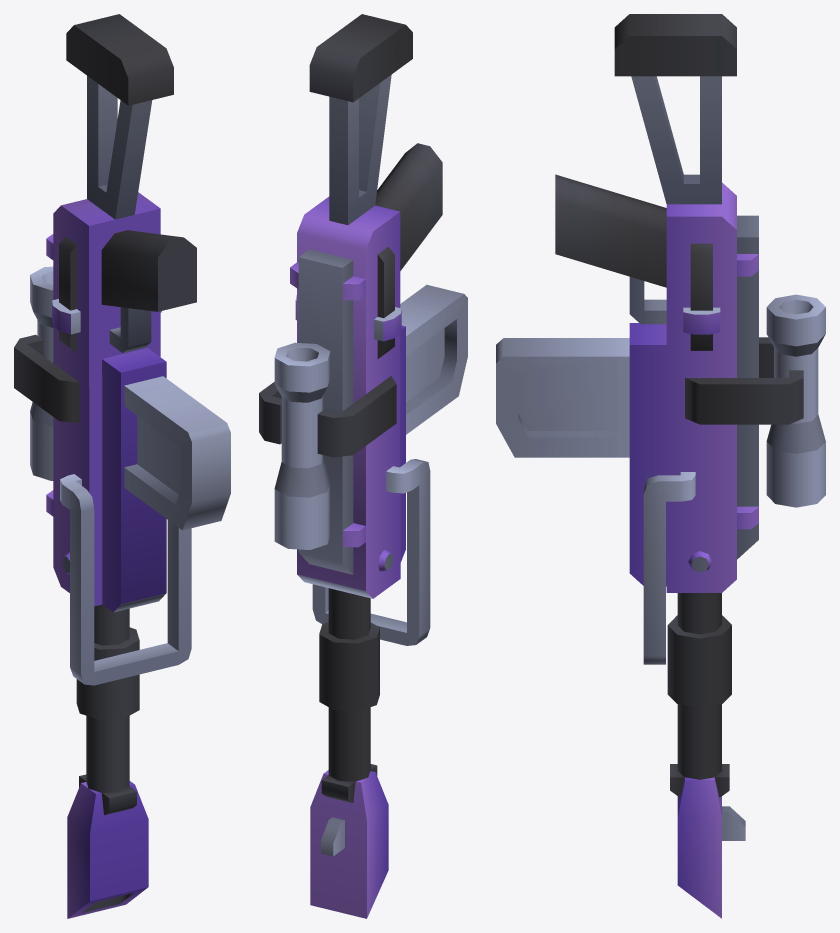
The model's file is kb-blaster-f-lod1.glb.
3 renders of one model, left to right at view 1: azimuth 30°, elevation 25°; view 2: azimuth 150°, elevation 25°; view 3: azimuth 270°, elevation 25°, orthographic. The views are drawn at different scales.
Parts seen in each view (by area): view 1: blaster-f, WeaponMesh_kb-blaster-f_magazine, WeaponMesh_kb-blaster-f_scope; view 2: blaster-f, WeaponMesh_kb-blaster-f_scope, WeaponMesh_kb-blaster-f_magazine; view 3: blaster-f, WeaponMesh_kb-blaster-f_scope, WeaponMesh_kb-blaster-f_magazine.
Part boxes in pixels (x1,y1,x2,y2): blaster-f: [46, 14, 196, 918]; WeaponMesh_kb-blaster-f_magazine: [124, 376, 230, 530]; WeaponMesh_kb-blaster-f_scope: [14, 266, 79, 480]; blaster-f: [290, 14, 442, 918]; WeaponMesh_kb-blaster-f_scope: [259, 342, 396, 549]; WeaponMesh_kb-blaster-f_magazine: [400, 284, 467, 434]; blaster-f: [555, 14, 758, 918]; WeaponMesh_kb-blaster-f_scope: [685, 294, 825, 507]; WeaponMesh_kb-blaster-f_magazine: [496, 338, 629, 457].
Size of the model in its own units: 0.1363 by 1.05 by 0.3567.
Materials: 1 (1 with a texture image).
